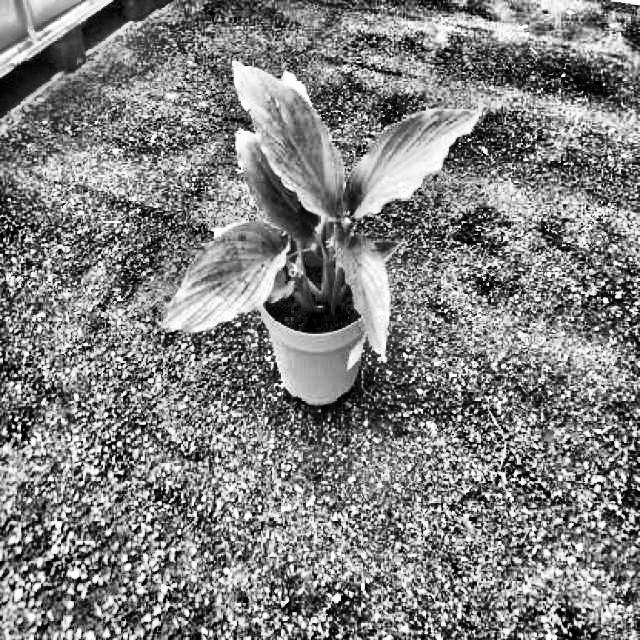plants: (156, 58, 482, 362)
